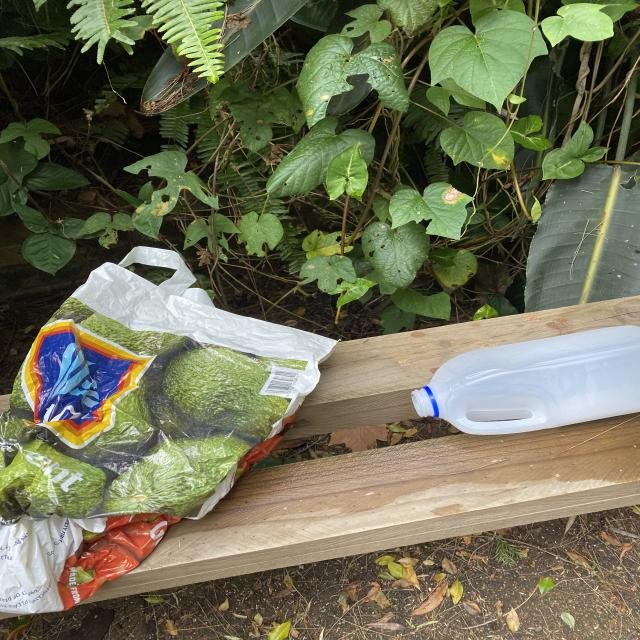bag: (0, 246, 338, 616)
bottle: (411, 325, 640, 435)
